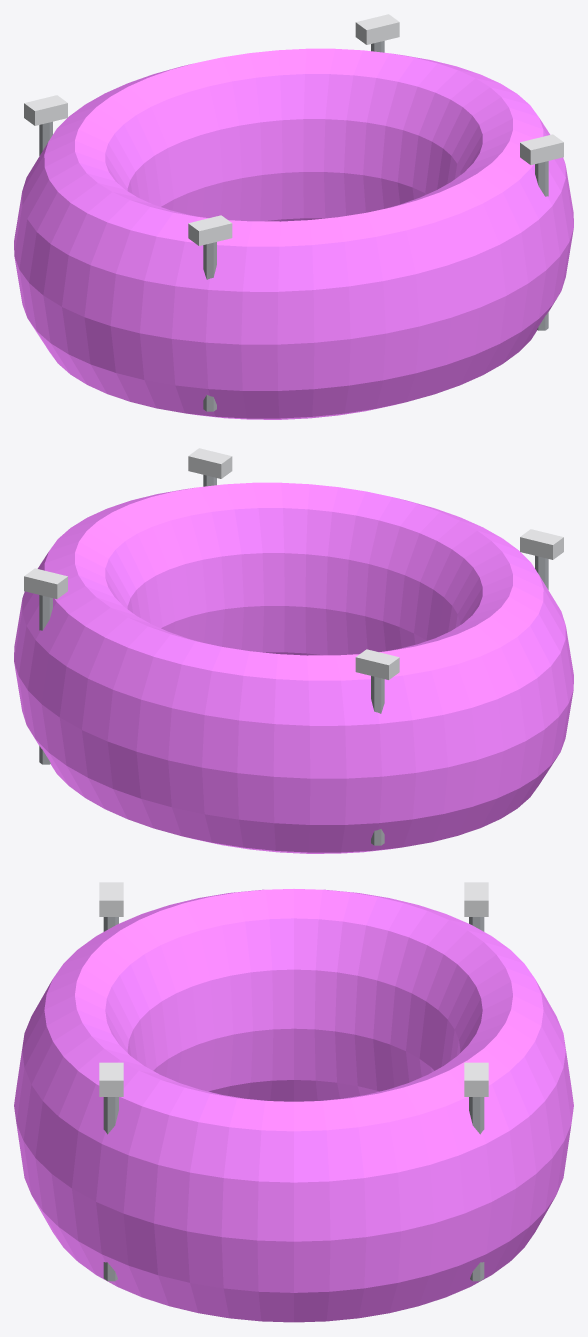
The model's file is stadium.glb.
The picture shows the model from 3 angles, top to bottom: view 1: azimuth 30°, elevation 25°; view 2: azimuth 150°, elevation 25°; view 3: azimuth 270°, elevation 25°; orthographic projection. The views are drawn at different scales.
Parts seen in each view (by area): view 1: stadium; view 2: stadium; view 3: stadium.
Boxes of the visible parts, x1,y1,x2,y2 form: stadium: (14,14,573,419); stadium: (14,448,573,853); stadium: (14,882,573,1322).
Bounding box in the file's own units: 2.12 × 0.85 × 1.84.
